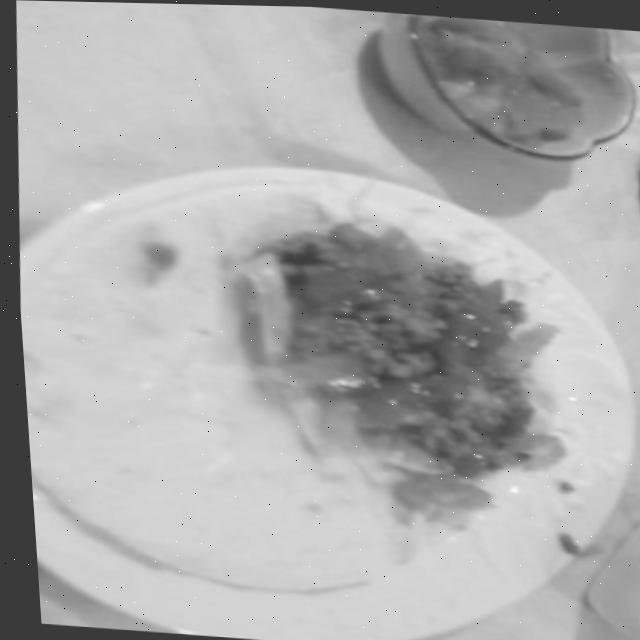面包点心: (9, 172, 619, 630)
